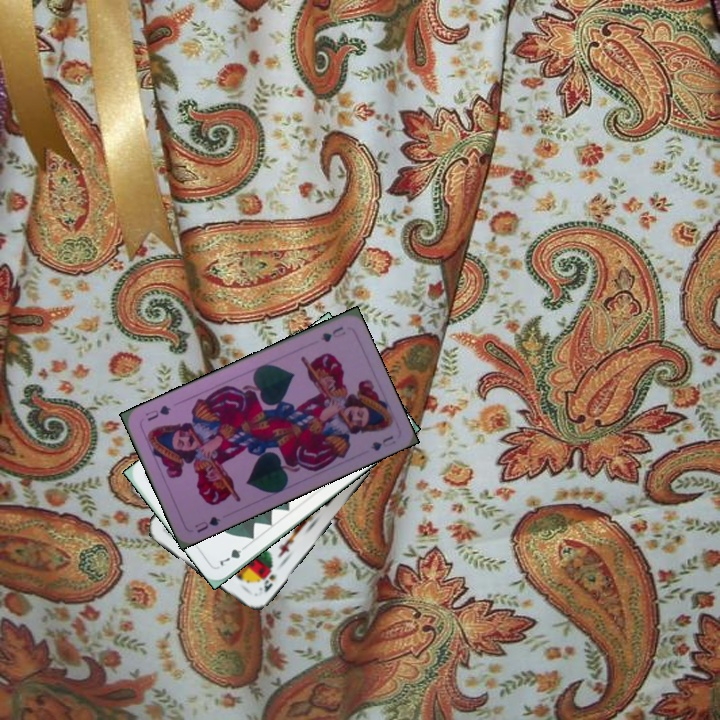G7: (216, 540, 249, 569)
GU: (191, 512, 223, 536), (317, 322, 348, 345)
SK: (255, 570, 278, 595)
